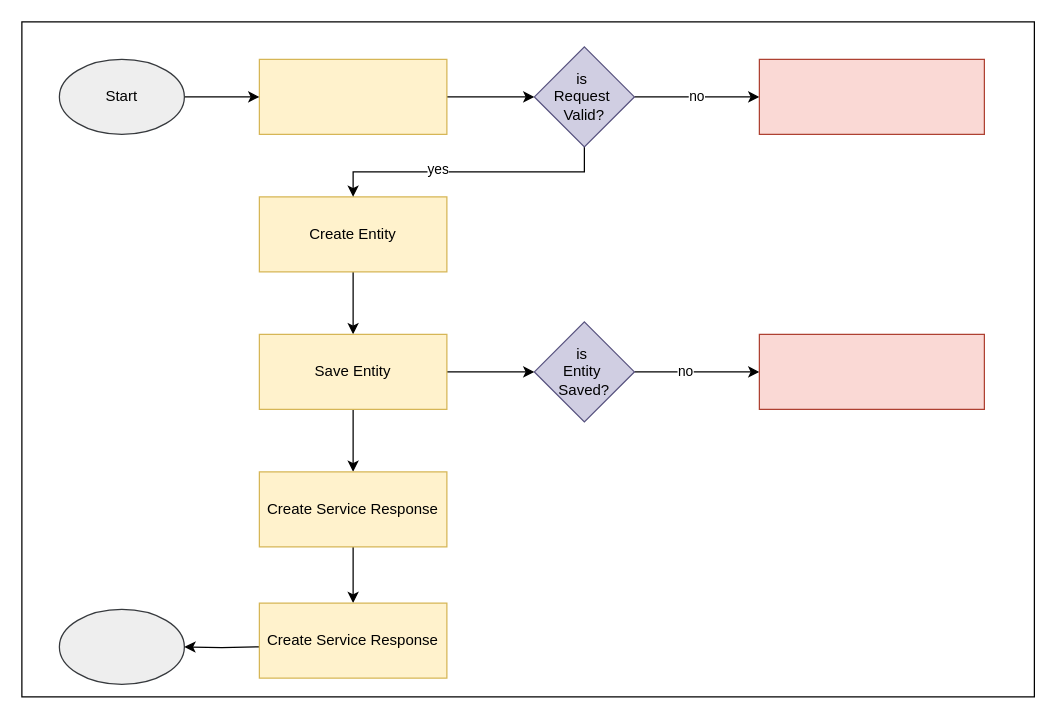
This 1056x719 diagram has some shape labels left out. Each missing label, with the box of its shape:
Application Error Exception: (758, 333, 984, 409)
Application Service Exception INVALID_REQUEST: (758, 58, 984, 134)
End: (58, 608, 184, 684)
Validate Service Request: (258, 58, 447, 134)
